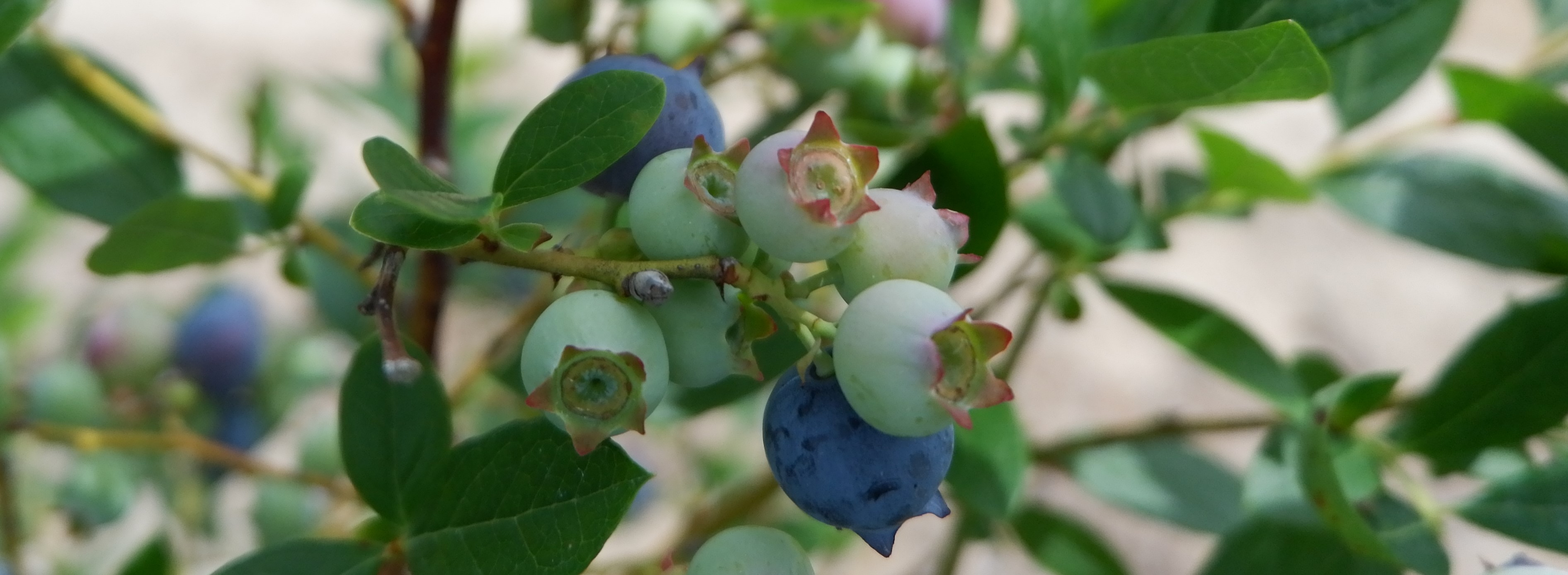Immature: (835, 285, 1013, 432), (519, 290, 669, 455), (732, 111, 882, 265), (834, 177, 970, 303), (636, 278, 775, 388), (628, 144, 745, 265)
Mature: (763, 357, 952, 556), (553, 53, 726, 197)
